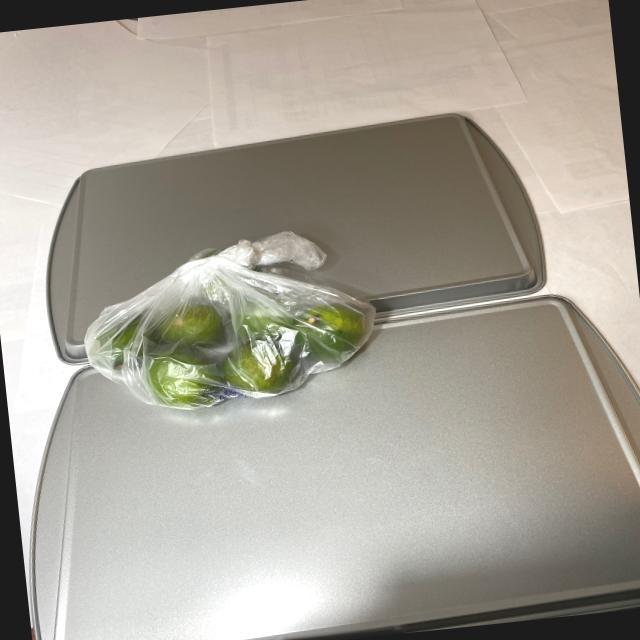lemon: (80, 278, 396, 418)
